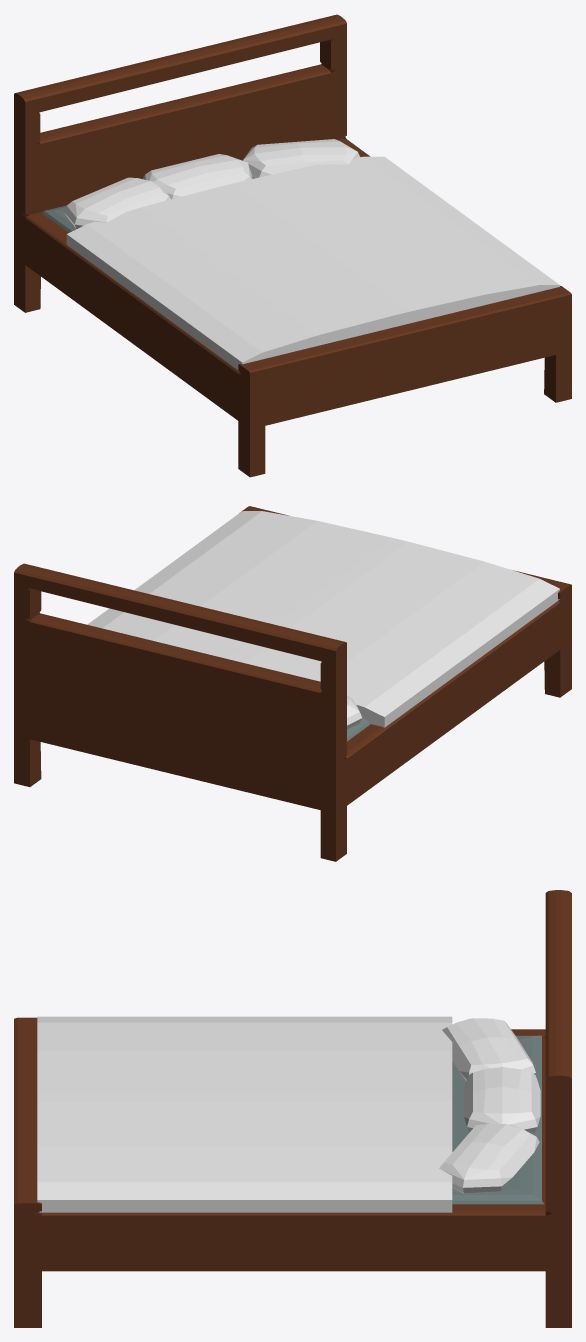
File: wooden-bed.glb
3 renders of one model, top to bottom at view 1: azimuth 30°, elevation 25°; view 2: azimuth 150°, elevation 25°; view 3: azimuth 270°, elevation 25°, orthographic. The views are drawn at different scales.
Parts seen in each view (by area): view 1: Bed; view 2: Bed; view 3: Bed.
Boxes of the visible parts, bbox=[...] form: Bed: bbox=[14, 14, 571, 477]; Bed: bbox=[14, 506, 571, 861]; Bed: bbox=[14, 890, 571, 1327].
Size of the model in its own units: 3 by 1.9 by 3.81.
